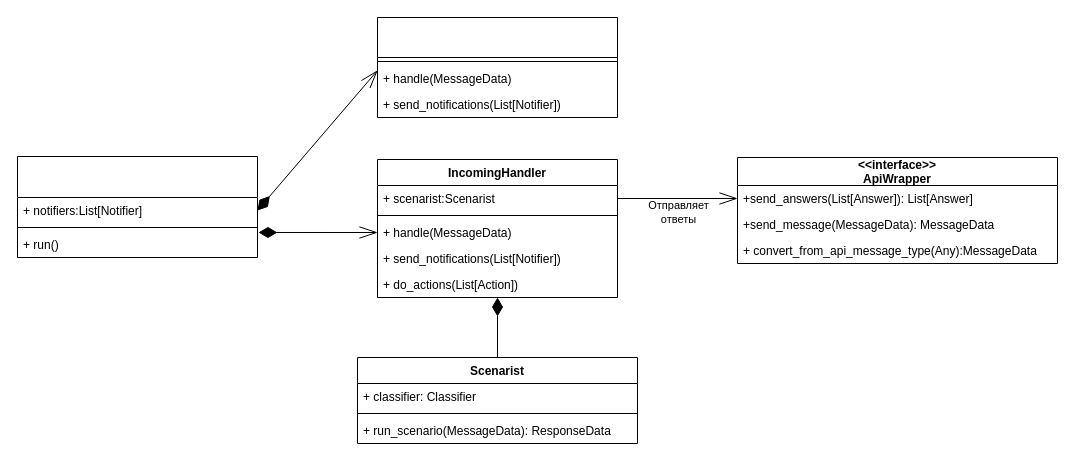
The diagram is 1075 pixels wide and 464 high, and some of its shapes have lost their labels. Here are the shapes that lost their labels. From the top down, the box of each, then its label:
(376, 16, 618, 118): OutgoingHandler
(16, 156, 258, 258): ApiWorker
